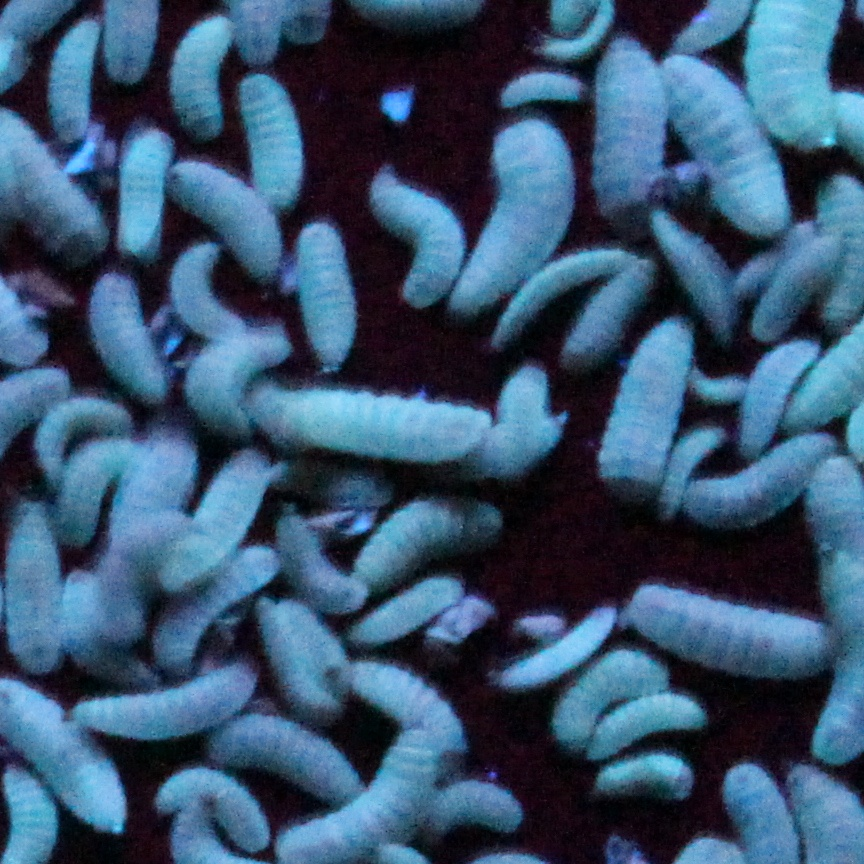larve: (651, 50, 793, 238), (459, 114, 571, 304), (639, 578, 835, 674), (270, 378, 486, 461), (598, 326, 700, 494), (166, 447, 270, 592), (158, 557, 284, 670), (163, 157, 286, 272), (80, 661, 254, 741), (156, 753, 272, 859), (682, 445, 831, 523), (590, 45, 659, 211), (366, 182, 461, 299), (339, 661, 466, 745), (747, 338, 839, 453), (352, 500, 472, 588), (186, 335, 305, 423), (203, 731, 364, 796), (505, 243, 610, 340), (550, 661, 676, 739), (754, 211, 837, 326), (288, 211, 347, 367), (566, 260, 656, 362), (656, 209, 732, 328), (113, 427, 190, 543), (7, 506, 60, 672), (266, 610, 341, 727), (262, 525, 368, 606), (329, 582, 474, 641), (54, 439, 129, 545), (101, 272, 166, 394), (108, 122, 171, 247), (503, 608, 601, 688), (240, 81, 299, 204), (164, 243, 237, 339), (39, 402, 129, 476), (176, 24, 239, 129), (592, 694, 707, 751), (409, 776, 525, 831), (50, 14, 99, 136), (678, 360, 762, 401)
